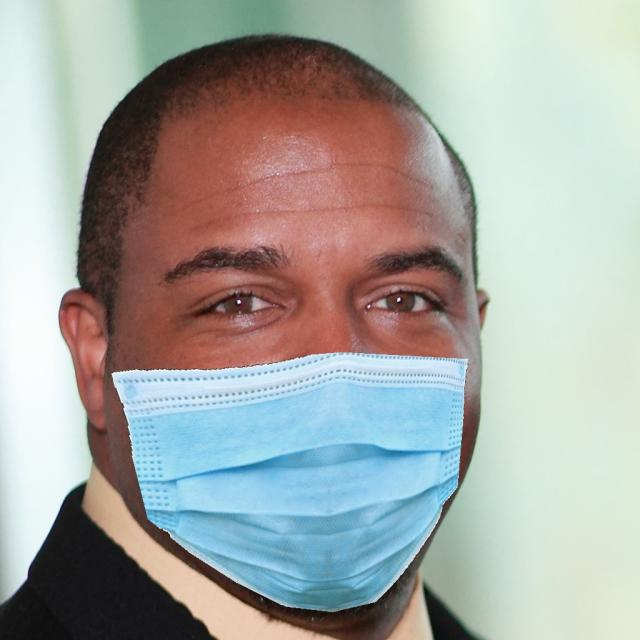1_mascarilla: (109, 351, 468, 611)
